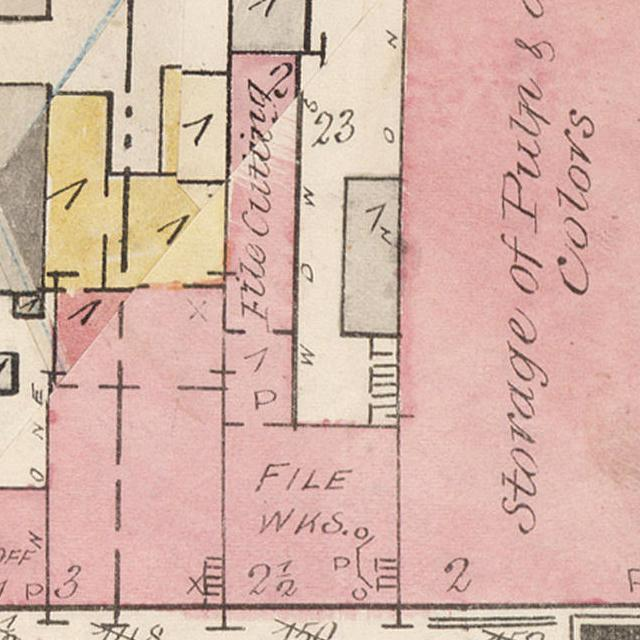building-footprints: (44, 73, 229, 608), (224, 52, 399, 607), (294, 0, 406, 427), (342, 179, 401, 336), (0, 488, 48, 608), (230, 0, 309, 53), (15, 293, 44, 316)
